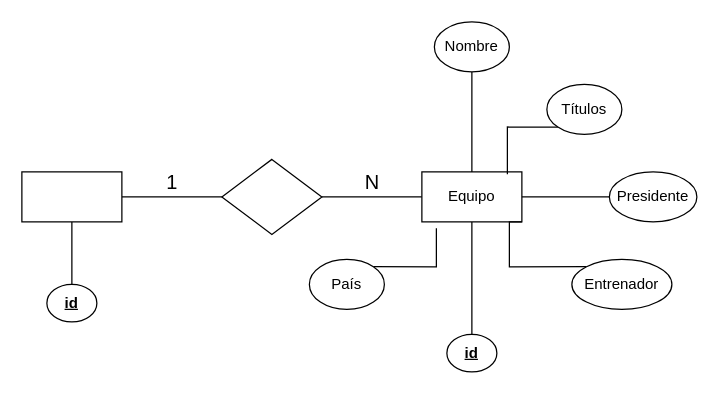
The diagram is 719 pixels wide and 394 high, and some of its shapes have lost their labels. The shapes that lost their labels are listed below. From the top down, each one's box as (x1, y1, x2, y2) in pixels, then its label:
(21, 171, 122, 222): Liga
(221, 158, 322, 234): tiene
